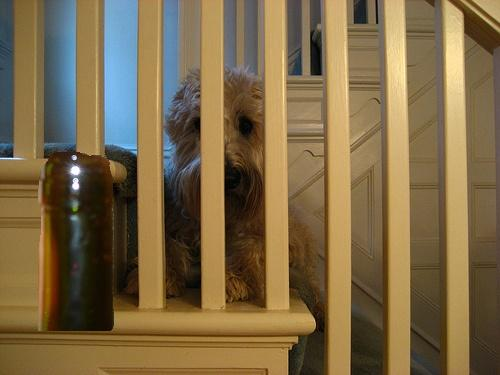tampered: (38, 153, 114, 331)
